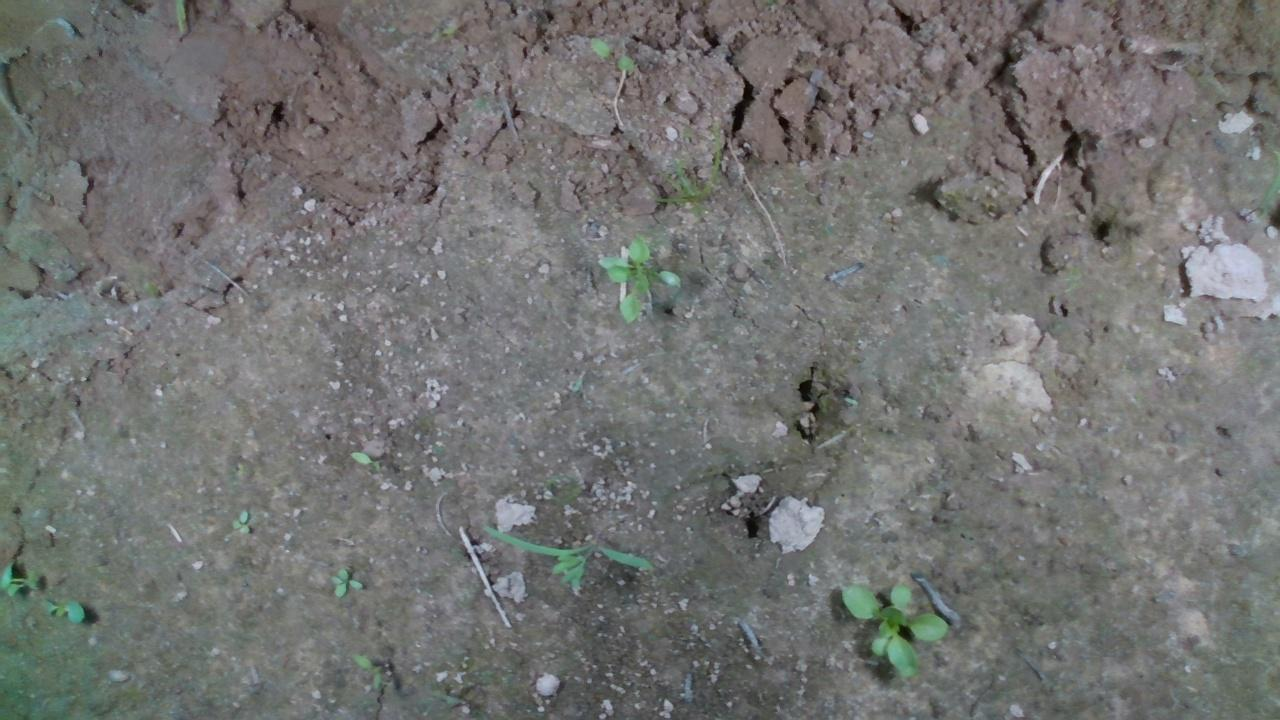weed: (585, 36, 637, 74), (35, 597, 85, 627), (349, 650, 381, 689), (328, 565, 364, 597), (226, 508, 250, 534)
